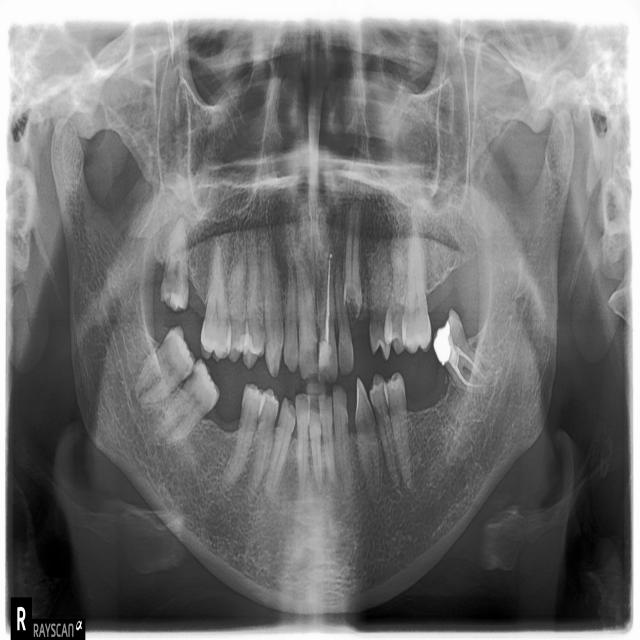mandibula: (52, 102, 577, 614)
